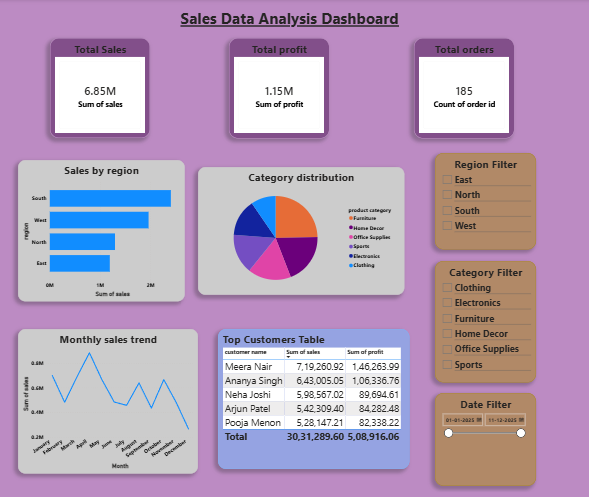

Layout of this report page (visuals, bound fields, positions):
{"tool":"powerbi","page":{"name":"Dashboard","canvas":[1650,1400],"ordinal":0},"visuals":[{"type":"cardVisual","title":"Total Sales","fields":{"Data":["Sum(cleaned_sales_data.sales)"]},"box":[140,109.2,280,280],"z":0},{"type":"cardVisual","title":"Total profit","fields":{"Data":["Sum(cleaned_sales_data.profit)"]},"box":[641.1,108.4,280.5,280.5],"z":1000},{"type":"cardVisual","title":"Total orders","fields":{"Data":["CountNonNull(cleaned_sales_data.order id)"]},"box":[1159.7,108.4,280.5,280.5],"z":2000},{"type":"clusteredBarChart","title":"Sales by region","fields":{"Y":["Sum(cleaned_sales_data.sales)"],"Category":["cleaned_sales_data.region"]},"box":[49.5,450.2,466.7,396],"z":3000},{"type":"lineChart","title":"Monthly sales trend","fields":{"Category":["cleaned_sales_data.order date.Variation.Date Hierarchy.Month"],"Y":["Sum(cleaned_sales_data.sales)"]},"box":[49.5,924,504.4,405.4],"z":4000},{"type":"pieChart","title":"Category distribution ","fields":{"Category":["cleaned_sales_data.product category"],"Y":["Sum(cleaned_sales_data.sales)"]},"box":[553.9,469.1,577.5,358.3],"z":5000},{"type":"slicer","title":"Region Filter","fields":{"Values":["cleaned_sales_data.region"]},"box":[1217.5,430,282.5,270],"z":6000},{"type":"slicer","title":"Category Filter","fields":{"Values":["cleaned_sales_data.product category"]},"box":[1217.5,732.5,282.5,340],"z":7000},{"type":"slicer","title":"Date Filter","fields":{"Values":["cleaned_sales_data.order date"]},"box":[1217.5,1102.5,282.5,260],"z":8000},{"type":"textbox","box":[322.9,18.9,978.2,89.6],"z":9000},{"type":"tableEx","title":"Top Customers Table","fields":{"Values":["cleaned_sales_data.customer name","Sum(cleaned_sales_data.sales)","Sum(cleaned_sales_data.profit)"]},"box":[610,924,536,392],"z":10000}]}

Visuals, with their boxes in screenshot pixels (x1, y1, x2, y2), scaled from the page's 1650x1400 canvas onto the 589x497 screenshot:
"Total Sales" cardVisual: <bbox>50, 39, 150, 138</bbox>
"Total profit" cardVisual: <bbox>229, 38, 329, 138</bbox>
"Total orders" cardVisual: <bbox>414, 38, 514, 138</bbox>
"Sales by region" clusteredBarChart: <bbox>18, 160, 184, 300</bbox>
"Monthly sales trend" lineChart: <bbox>18, 328, 198, 472</bbox>
"Category distribution " pieChart: <bbox>198, 167, 404, 294</bbox>
"Region Filter" slicer: <bbox>435, 153, 535, 248</bbox>
"Category Filter" slicer: <bbox>435, 260, 535, 381</bbox>
"Date Filter" slicer: <bbox>435, 391, 535, 484</bbox>
textbox: <bbox>115, 7, 464, 39</bbox>
"Top Customers Table" tableEx: <bbox>218, 328, 409, 467</bbox>
